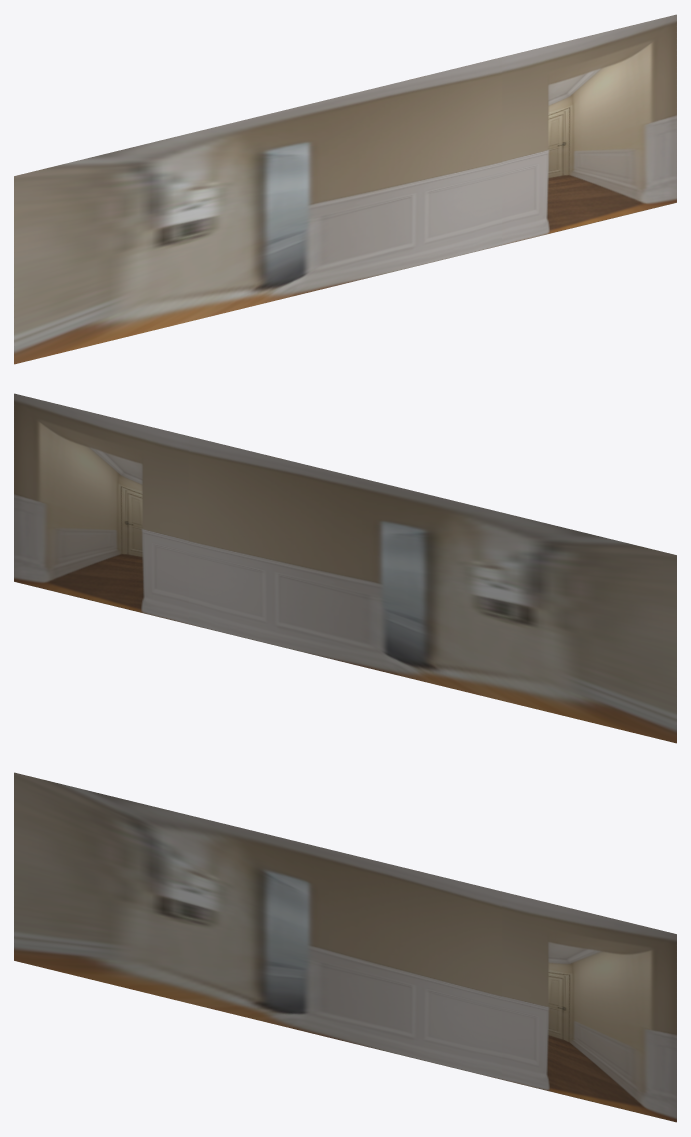
Rendered from wall.001.obj.
3 views of the same model, one above another, from view 1: azimuth 30°, elevation 25°; view 2: azimuth 150°, elevation 25°; view 3: azimuth 330°, elevation 25° (orthographic).
Visible parts, largest first — view 1: wall.001; view 2: wall.001; view 3: wall.001.
Part boxes in pixels (x1,y1,x2,y2): wall.001: [14, 14, 676, 364]; wall.001: [14, 393, 676, 743]; wall.001: [14, 772, 676, 1122].
Size of the model in its own units: 276 by 75.02 by 1.53e-05.
